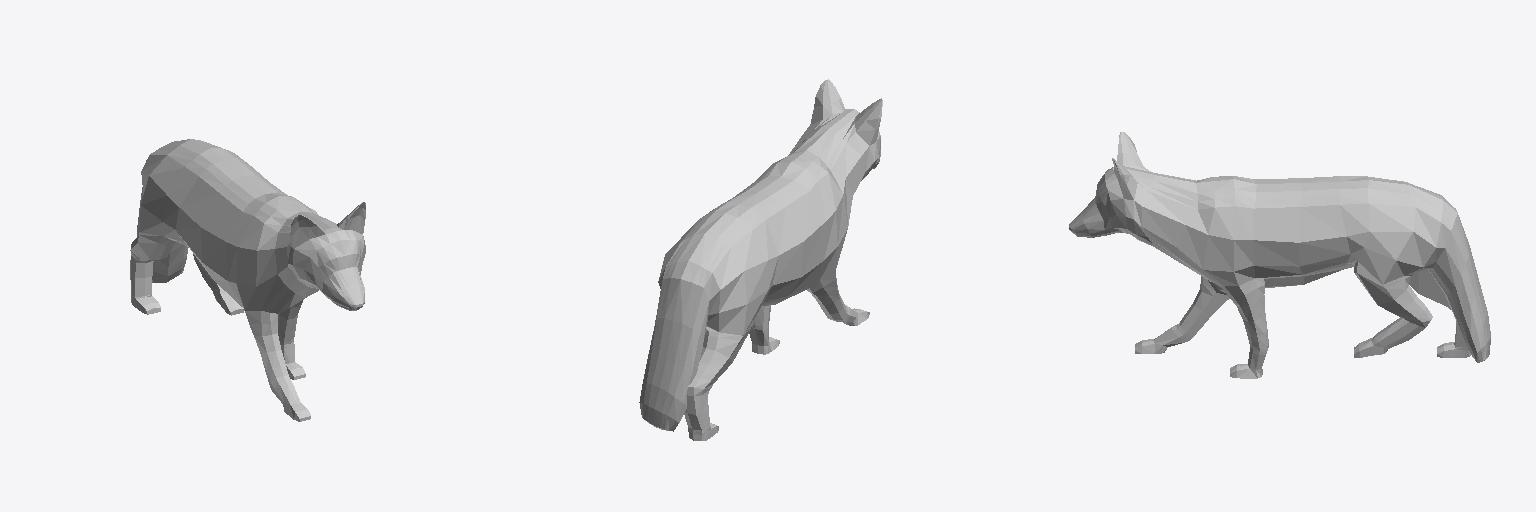
File: wolf.obj
3 renders of one model, left to right at view 1: azimuth 30°, elevation 25°; view 2: azimuth 150°, elevation 25°; view 3: azimuth 270°, elevation 25°, orthographic.
Parts seen in each view (by area): view 1: Wolf.001_Cube.001; view 2: Wolf.001_Cube.001; view 3: Wolf.001_Cube.001.
Boxes of the visible parts, x1=… form: Wolf.001_Cube.001: x1=130, y1=139, x2=365, y2=421; Wolf.001_Cube.001: x1=639, y1=79, x2=882, y2=440; Wolf.001_Cube.001: x1=1069, y1=132, x2=1490, y2=378.
Bounding box in the file's own units: 0.3895 × 0.8619 × 1.51.